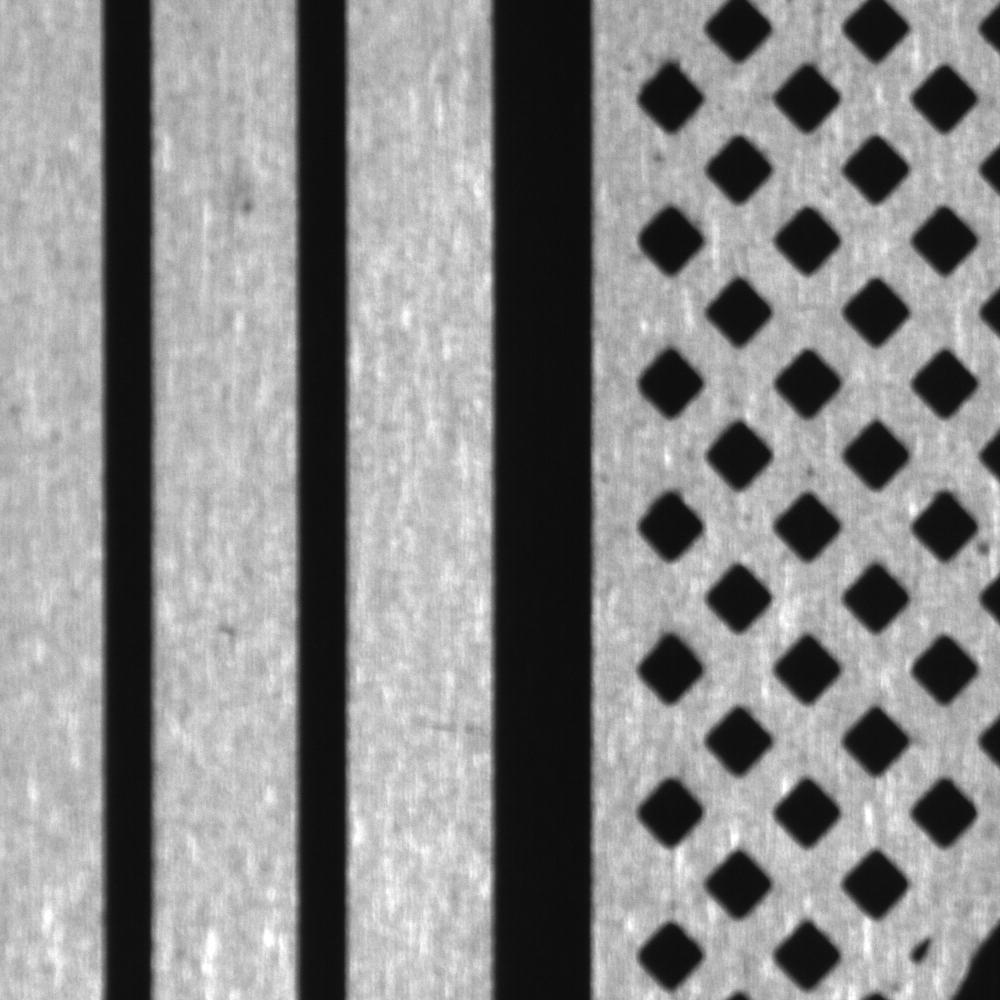Etching: (212, 612, 251, 646)
Pinhole: (229, 183, 266, 229)
